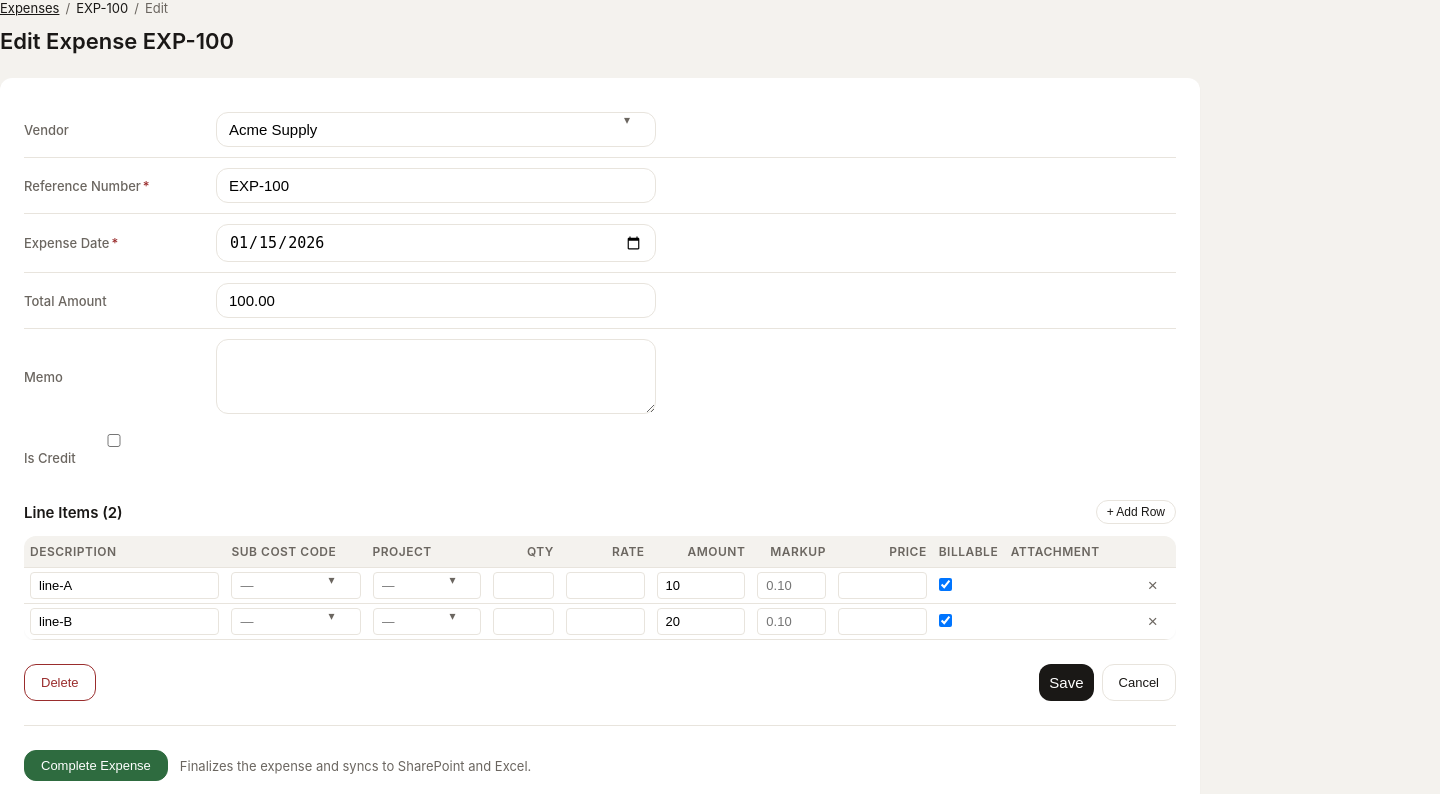
ExpenseEdit receipt re-homing on line delete (U-171 / U-476) › aborts rather than trust an idempotent create that returned a DIFFERENT attachment
Click the 1st button titled "Remove" at (1153, 586), box [1142, 575, 1164, 596]
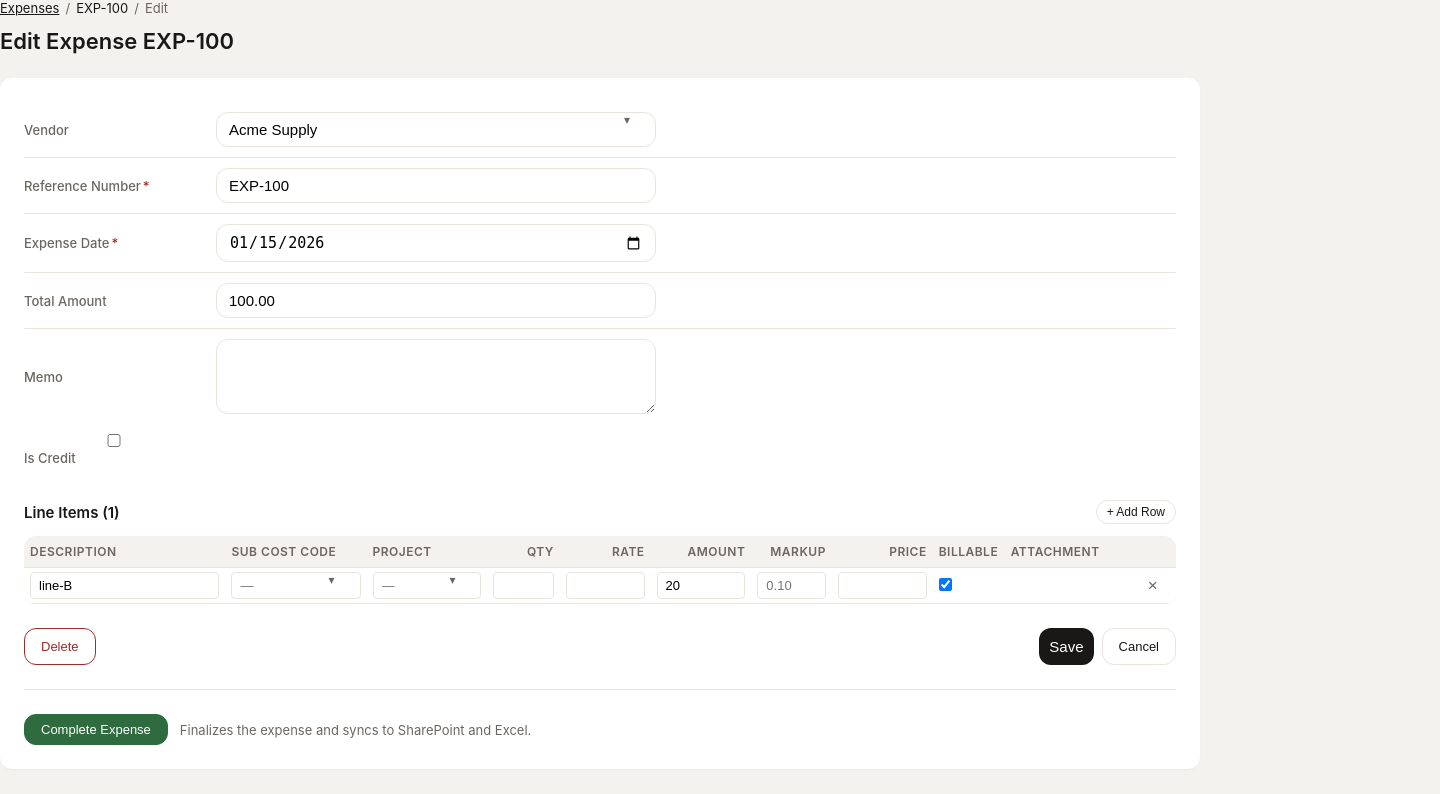
Click the button "Save" at (1066, 646), box [1039, 628, 1094, 665]
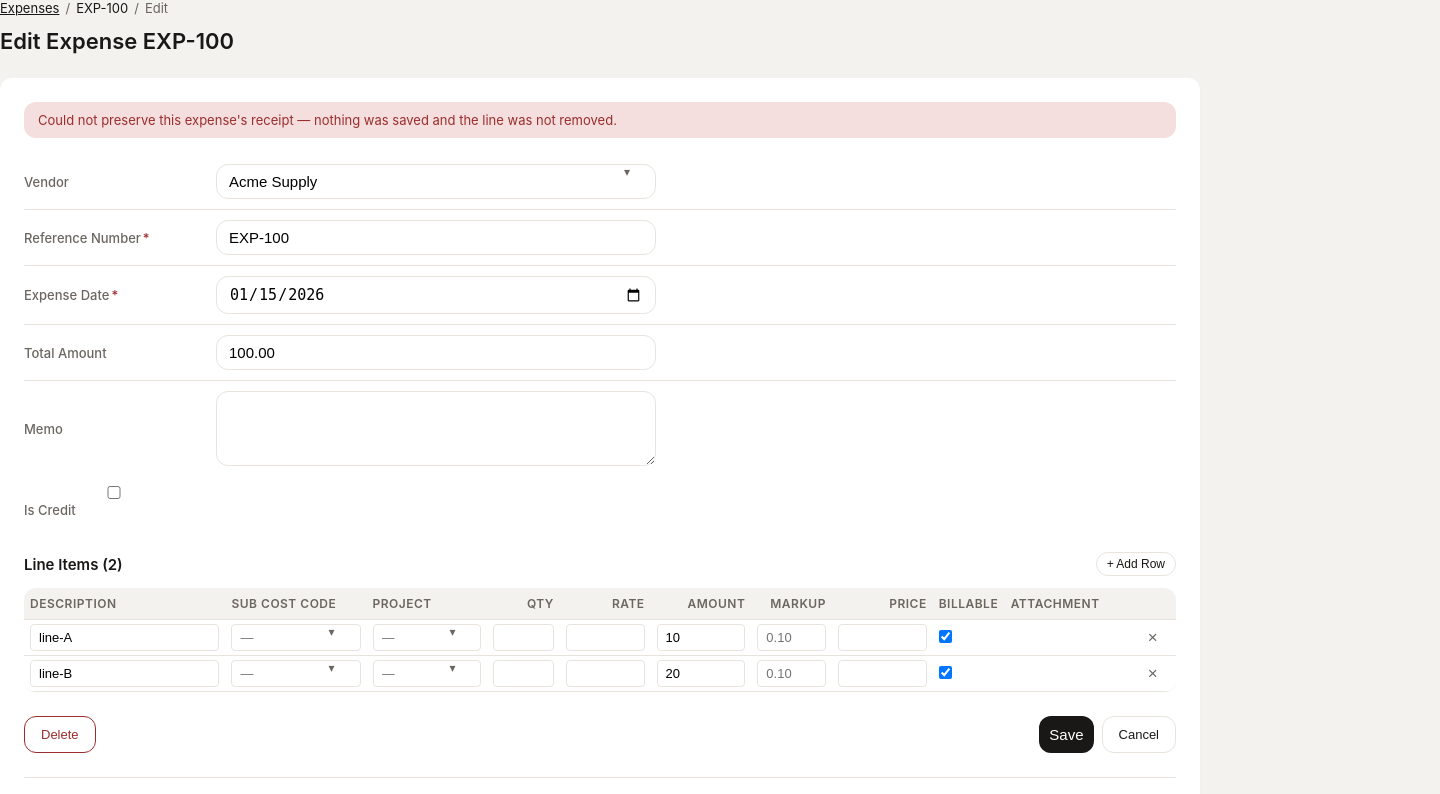
Now the text "Could not preserve this expense's receipt — nothing was saved and the line was not removed." is shown, box [38, 112, 617, 128]
